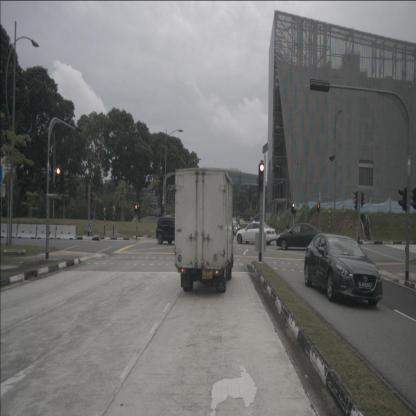movable_object-barrier: (35, 224, 57, 240), (55, 225, 77, 240), (17, 224, 37, 240), (0, 223, 18, 239)
vehicle-car: (304, 233, 383, 305), (276, 223, 323, 250), (236, 222, 277, 244), (156, 216, 185, 244), (225, 218, 238, 235)
vehicle-truck: (174, 168, 234, 292)
